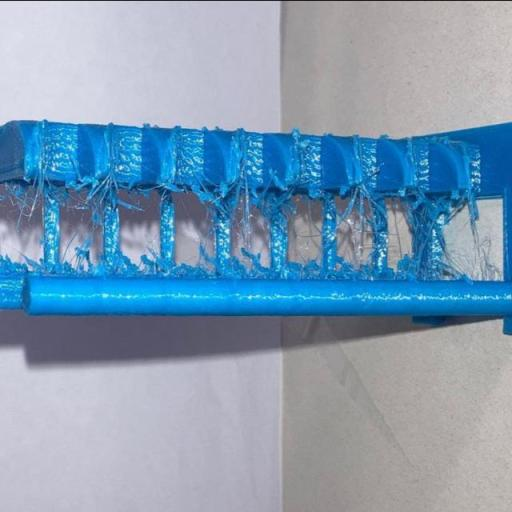stringing: (236, 185, 258, 257), (344, 204, 368, 266), (5, 182, 38, 220), (474, 242, 501, 288), (67, 236, 94, 276), (82, 185, 106, 228)
